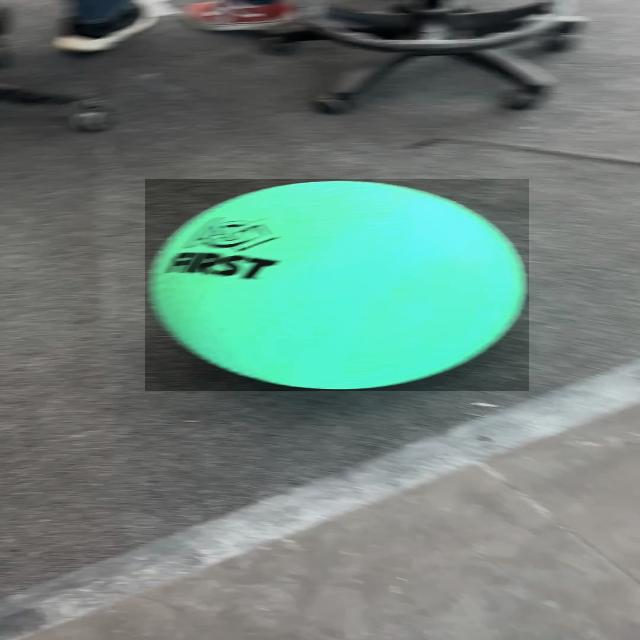Algae: (145, 179, 529, 391)
